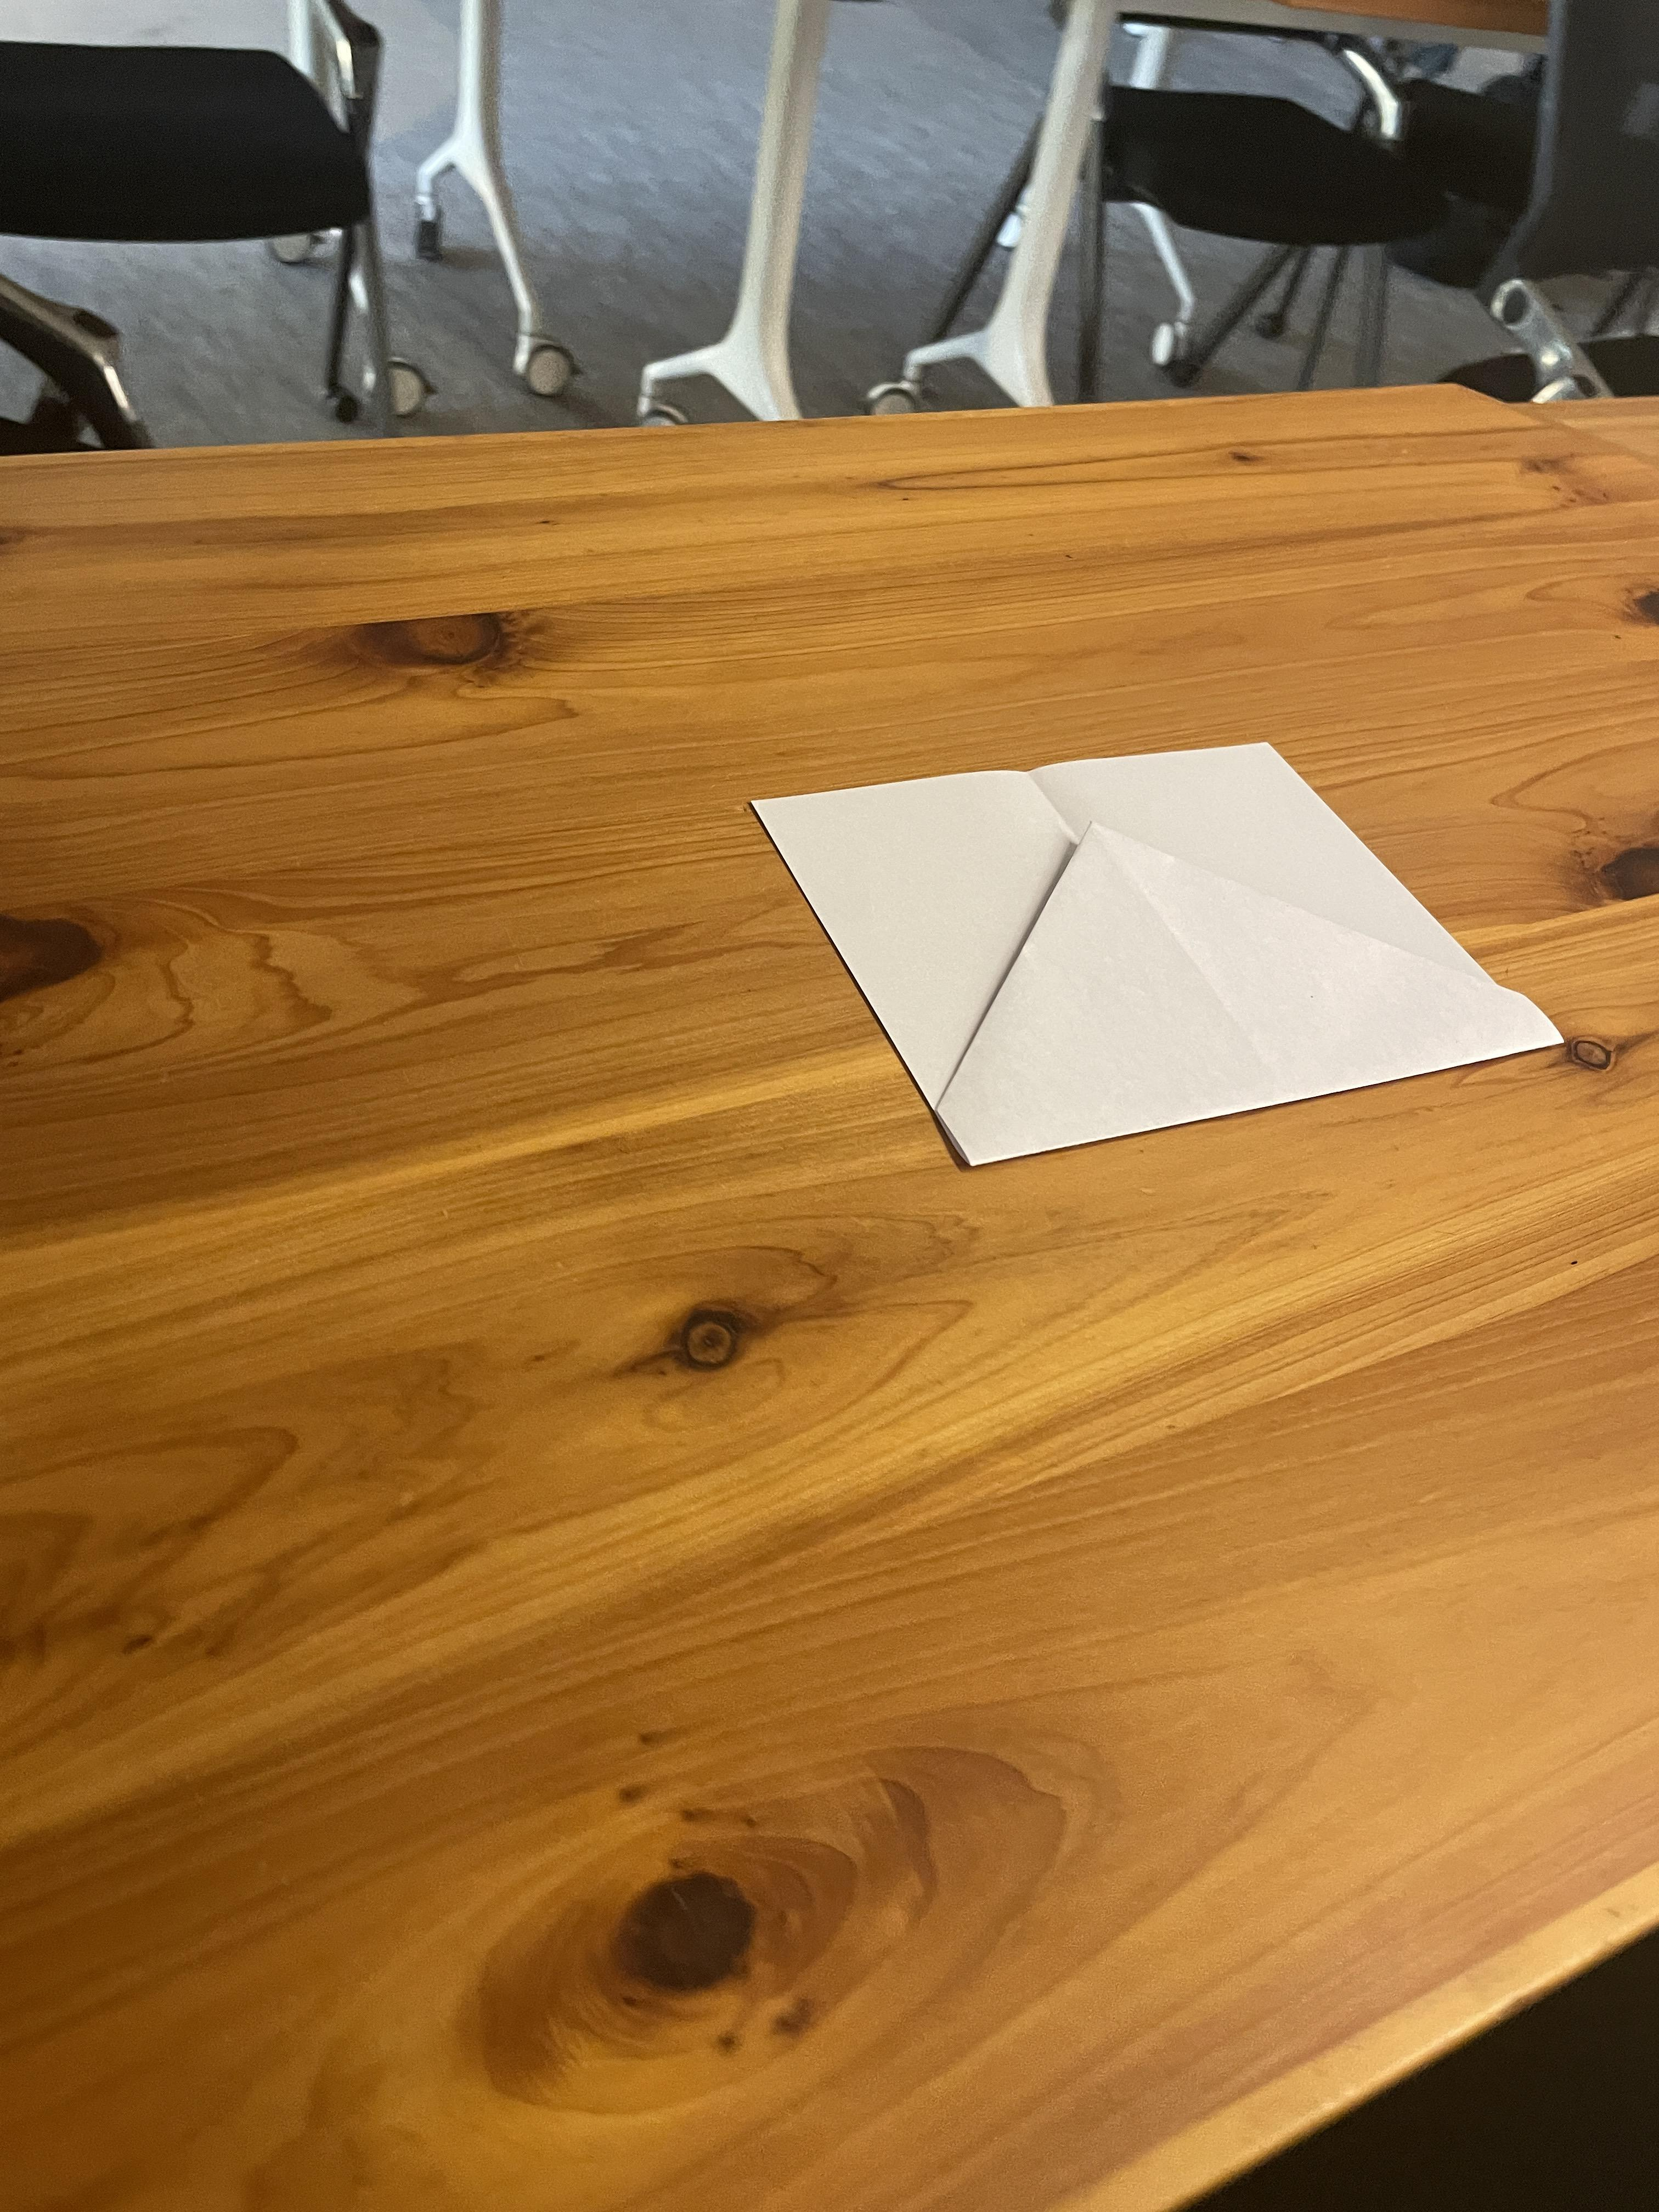shape_1: (626, 637, 1659, 1310)
